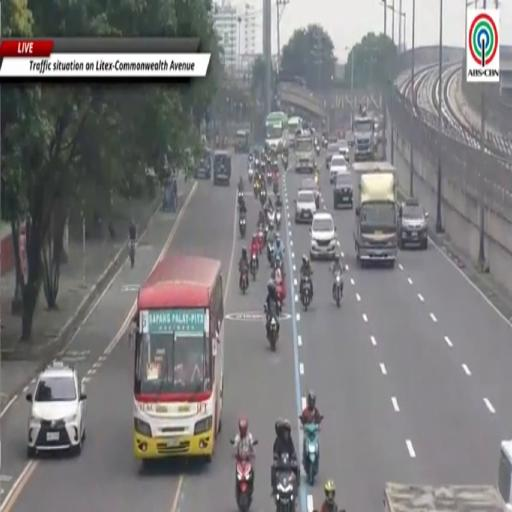bus: (134, 255, 223, 461), (288, 116, 302, 147)
car: (26, 361, 86, 458), (398, 198, 428, 249), (310, 212, 336, 260), (295, 190, 317, 223), (334, 171, 353, 209), (300, 178, 320, 209), (213, 151, 231, 185), (194, 148, 212, 179), (330, 155, 347, 184), (326, 141, 338, 169), (339, 139, 350, 163)
motorcycle: (300, 419, 319, 486), (235, 454, 253, 511), (275, 468, 297, 511), (274, 259, 285, 303), (268, 311, 279, 350), (333, 272, 343, 307), (301, 277, 311, 311), (239, 268, 249, 294), (129, 240, 136, 268), (238, 214, 246, 238), (250, 254, 257, 280), (267, 242, 274, 265), (258, 227, 264, 253), (259, 188, 266, 207), (267, 210, 275, 226), (264, 223, 269, 244), (238, 190, 244, 206), (315, 191, 320, 210), (276, 211, 281, 230), (254, 181, 259, 198), (282, 156, 288, 170), (273, 180, 278, 196), (322, 136, 328, 149), (248, 168, 253, 182), (267, 170, 272, 184), (315, 142, 320, 155), (248, 154, 253, 164)
truck: (352, 162, 398, 266), (384, 483, 507, 511), (352, 116, 376, 162), (265, 111, 288, 153), (295, 135, 314, 173)
